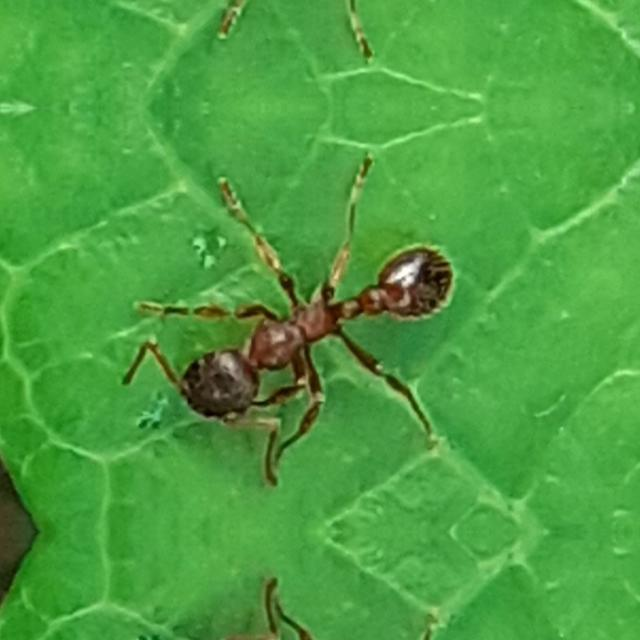Myrmica: (146, 210, 496, 444)
